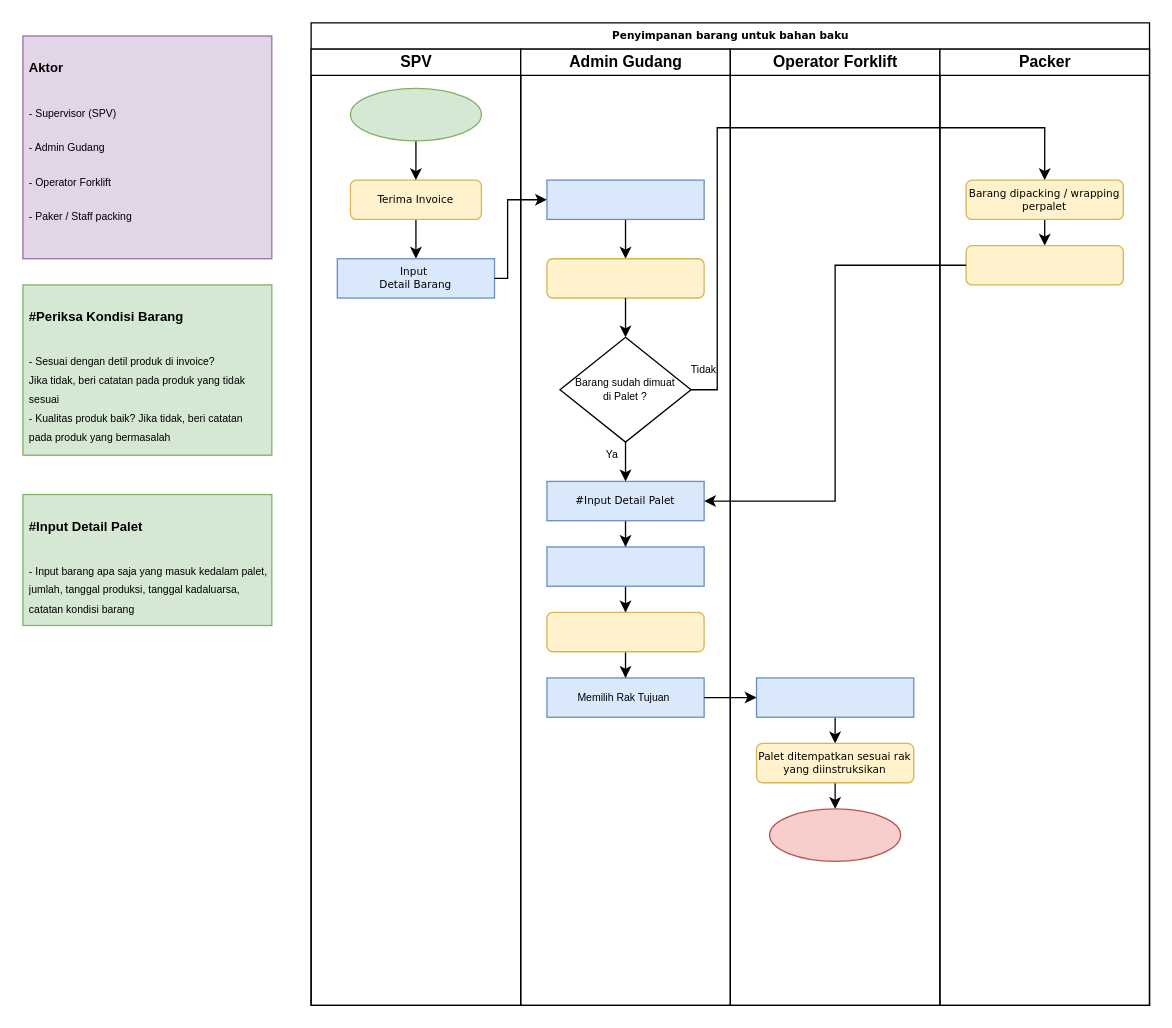
The diagram is 1172 pixels wide and 1028 high, and some of its shapes have lost their labels. The shapes that lost their labels are listed below. From the top down, each one's centre as x and y in pixels, then its label:
At (x=415, y=114): "Mulai".
At (x=625, y=199): "Menerima Detail Barang (ToDoList)".
At (x=625, y=277): "#Periksa Kondisi Barang".
At (x=1044, y=264): "Laporkan ke Admin".
At (x=625, y=566): "Generate QRcode".
At (x=625, y=631): "Tempel QRcode".
At (x=834, y=697): "Menerima Instruksi Pemindahan Palet (ToDoList)".
At (x=834, y=834): "Selesai".
